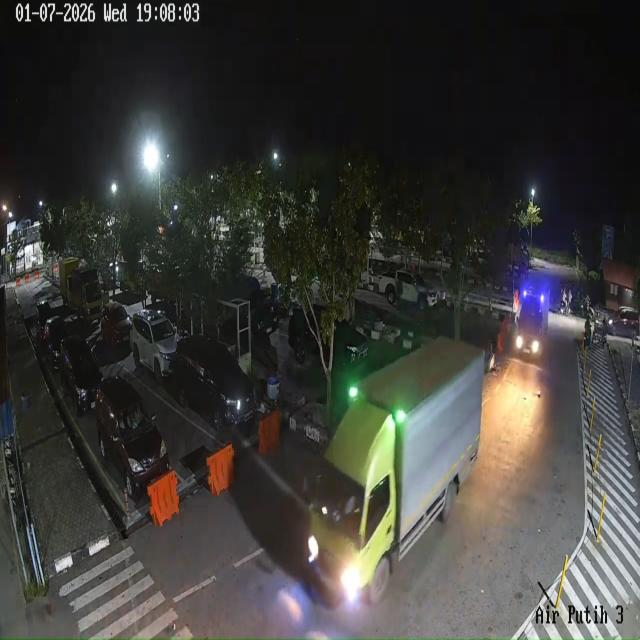Golongan IVA: (95, 376, 169, 500), (172, 336, 256, 436), (288, 305, 368, 368), (130, 310, 178, 384), (60, 335, 103, 417), (101, 301, 131, 347), (42, 316, 67, 370), (606, 307, 640, 339), (36, 299, 52, 341)
Golongan IVB: (378, 270, 437, 310)
Golongan VB: (308, 337, 484, 603), (59, 258, 103, 322), (514, 287, 550, 355)
